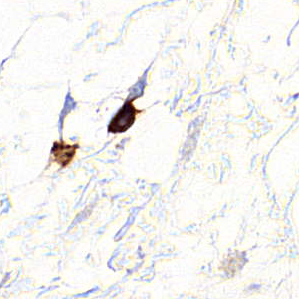Lymphocyte: (109, 101, 139, 133)
